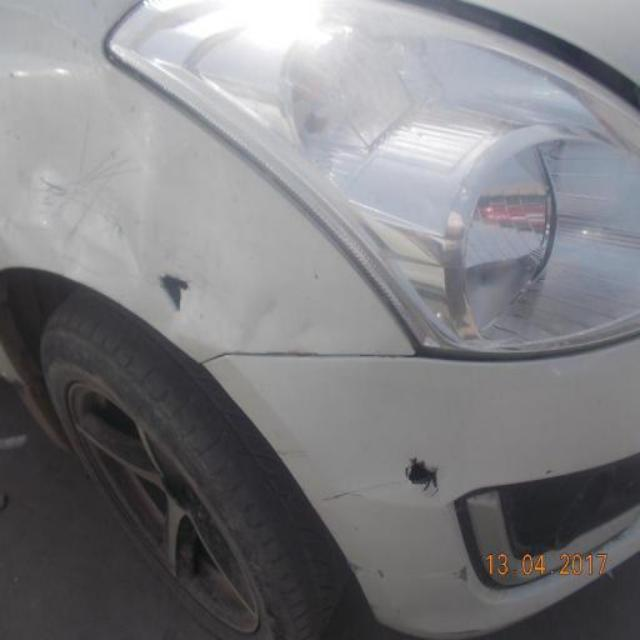crack: (399, 454, 446, 496), (156, 270, 196, 312), (347, 555, 391, 589), (450, 561, 474, 587)
scratch: (319, 478, 411, 506)
